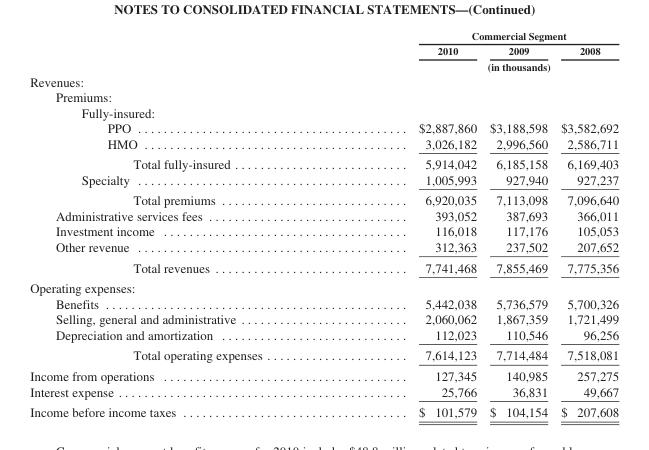table: (29, 29, 618, 419)
table column: (29, 29, 339, 419), (339, 29, 482, 419), (482, 29, 553, 419), (553, 29, 618, 419)
table column header: (29, 29, 618, 73)
table projected row header: (29, 277, 618, 295), (29, 88, 618, 104), (29, 73, 618, 88), (29, 104, 618, 119)
table row: (29, 256, 618, 277), (29, 344, 618, 365), (29, 135, 618, 153), (29, 153, 618, 171), (29, 171, 618, 189), (29, 189, 618, 207), (29, 238, 618, 256), (29, 277, 618, 295), (29, 326, 618, 344), (29, 365, 618, 383), (29, 383, 618, 401), (29, 401, 618, 419), (29, 88, 618, 104), (29, 119, 618, 135), (29, 207, 618, 223), (29, 295, 618, 311), (29, 43, 618, 58), (29, 58, 618, 73), (29, 73, 618, 88), (29, 104, 618, 119), (29, 223, 618, 238), (29, 311, 618, 326), (29, 29, 618, 43)
table spanning cell: (339, 58, 618, 73), (339, 29, 618, 43)
